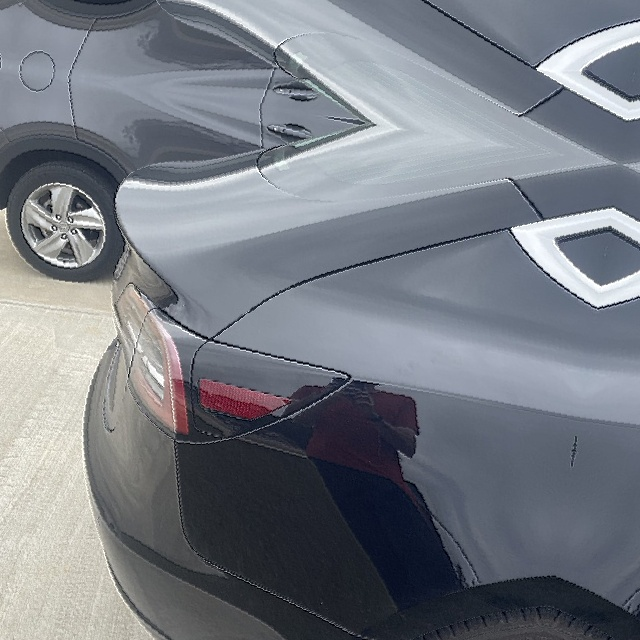reflector: (192, 377, 293, 426)
